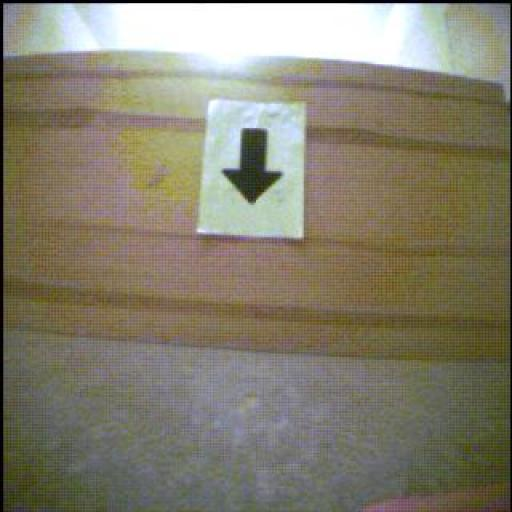Arrow: (224, 129, 283, 204)
